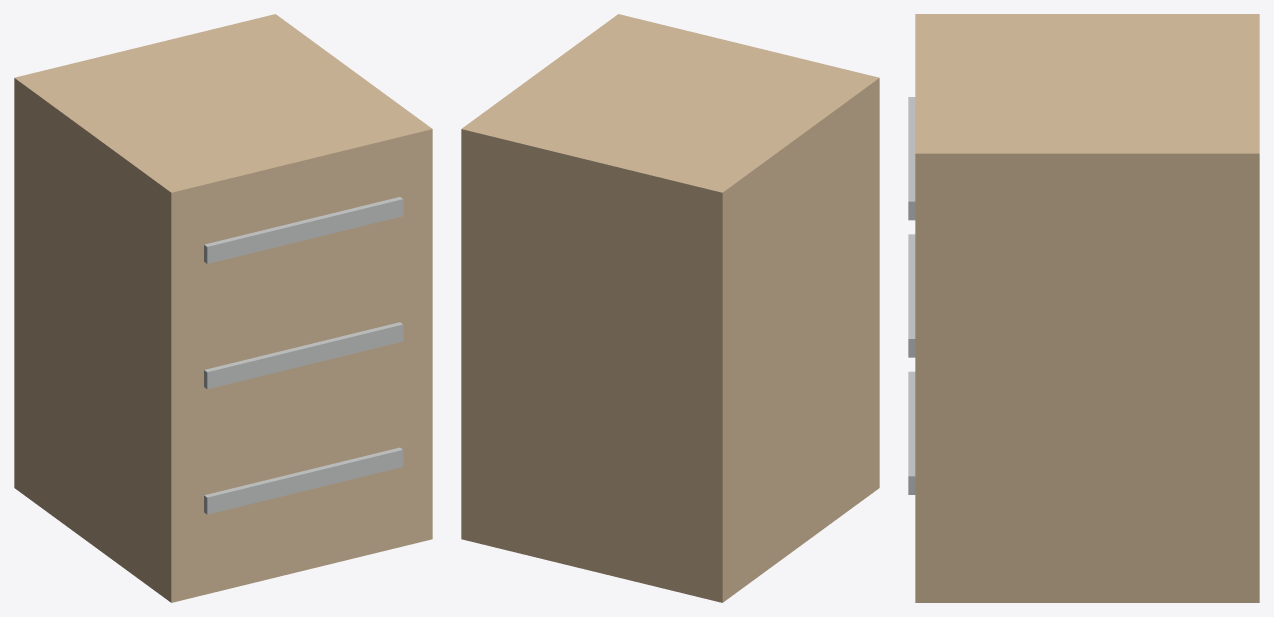
File: file-cab.glb
3 views of the same model, side by side, from view 1: azimuth 30°, elevation 25°; view 2: azimuth 150°, elevation 25°; view 3: azimuth 270°, elevation 25° (orthographic). The views are drawn at different scales.
Visible parts, largest first — view 1: root; view 2: root; view 3: root.
Part boxes in pixels (x1,y1,x2,y2): root: (14,14,432,602); root: (461,14,879,602); root: (908,14,1259,602).
Bounding box in the file's own units: 0.48 × 0.72 × 0.51.
